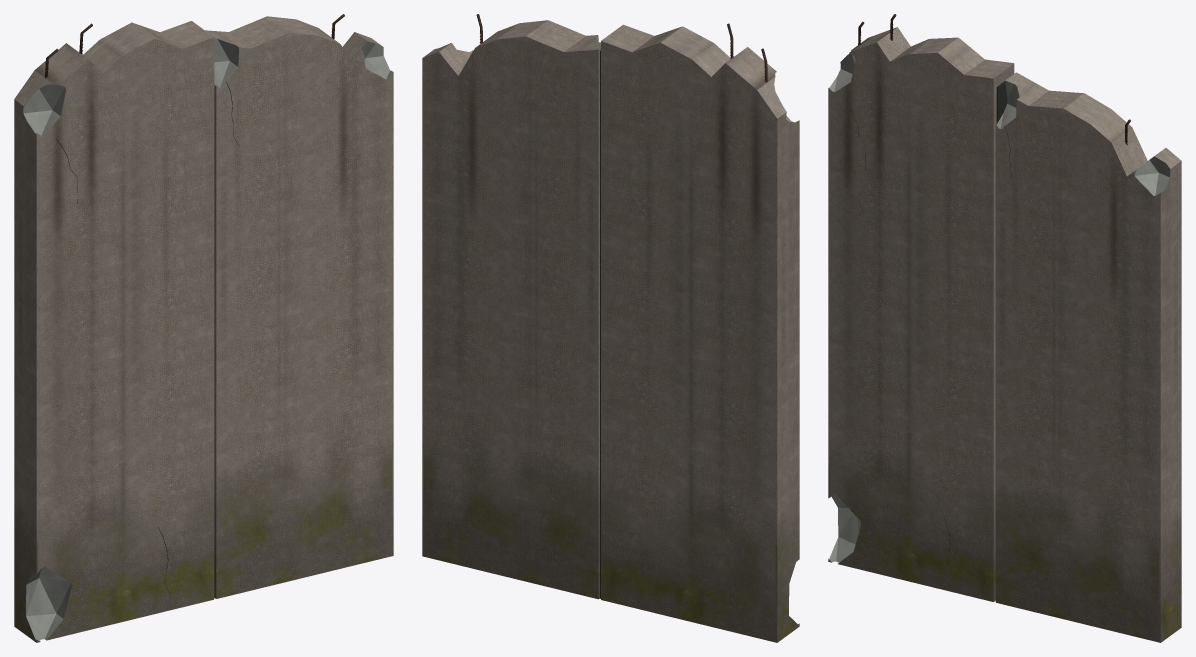
The model's file is lod0_NOT_APPROVED.glb.
3 views of the same model, side by side, from view 1: azimuth 30°, elevation 25°; view 2: azimuth 150°, elevation 25°; view 3: azimuth 330°, elevation 25° (orthographic). The views are drawn at different scales.
Parts seen in each view (by area): view 1: f3_rain_stained_wall_surface, f3_exposed_aggregate_surface; view 2: f3_rain_stained_wall_surface, f3_deep_crack_surface; view 3: f3_rain_stained_wall_surface, f3_exposed_aggregate_surface, f3_deep_crack_surface.
Boxes of the visible parts, box(x1,y1,x2,y2) form: f3_rain_stained_wall_surface: box(14, 16, 393, 642); f3_exposed_aggregate_surface: box(23, 38, 393, 640); f3_rain_stained_wall_surface: box(422, 20, 799, 642); f3_deep_crack_surface: box(600, 50, 600, 598); f3_rain_stained_wall_surface: box(828, 27, 1181, 642); f3_exposed_aggregate_surface: box(828, 53, 1170, 562); f3_deep_crack_surface: box(846, 81, 1016, 578).
Size of the model in its own units: 4.04 by 6.46 by 0.4472.
Materials: 4 (4 with a texture image).
